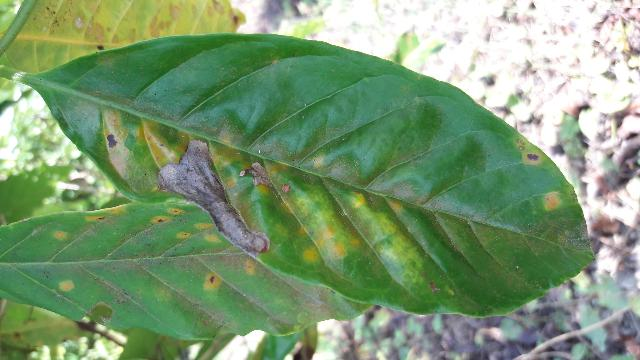rust_level_4: (29, 34, 597, 315)
